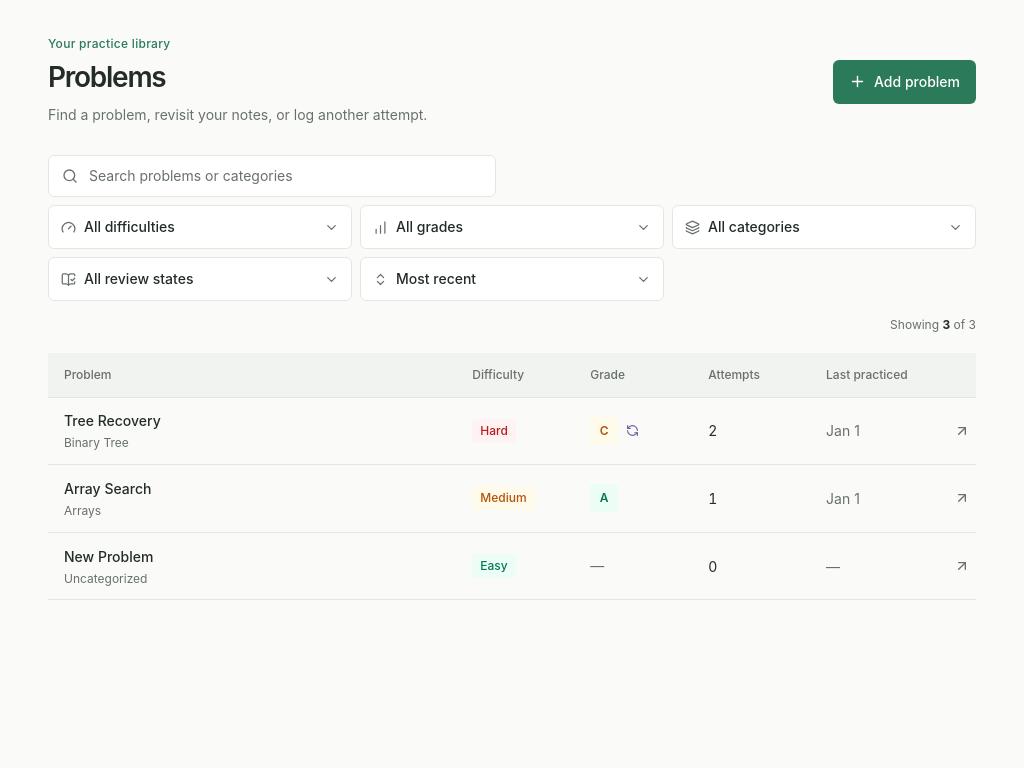
Test: ProblemsView filters › searches category options before filtering the list
Click the button "All categories": (754, 226) [672, 205, 976, 249]
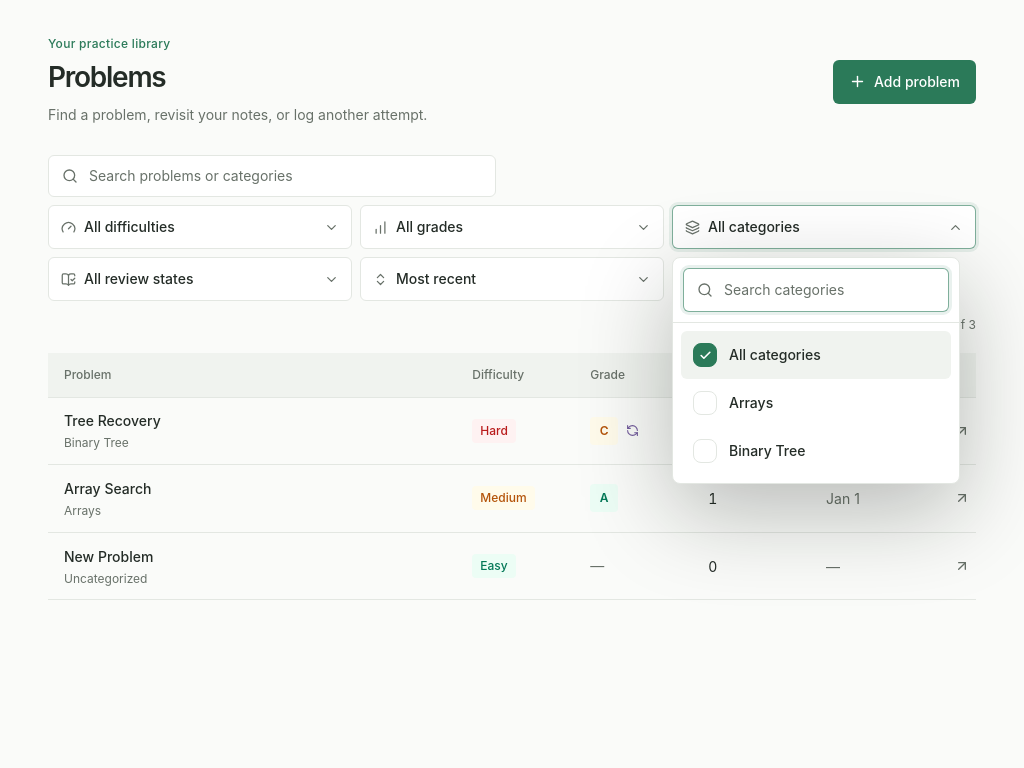
In the dropdown named "Search category options": (816, 290) [683, 268, 949, 312], type "binary tree"
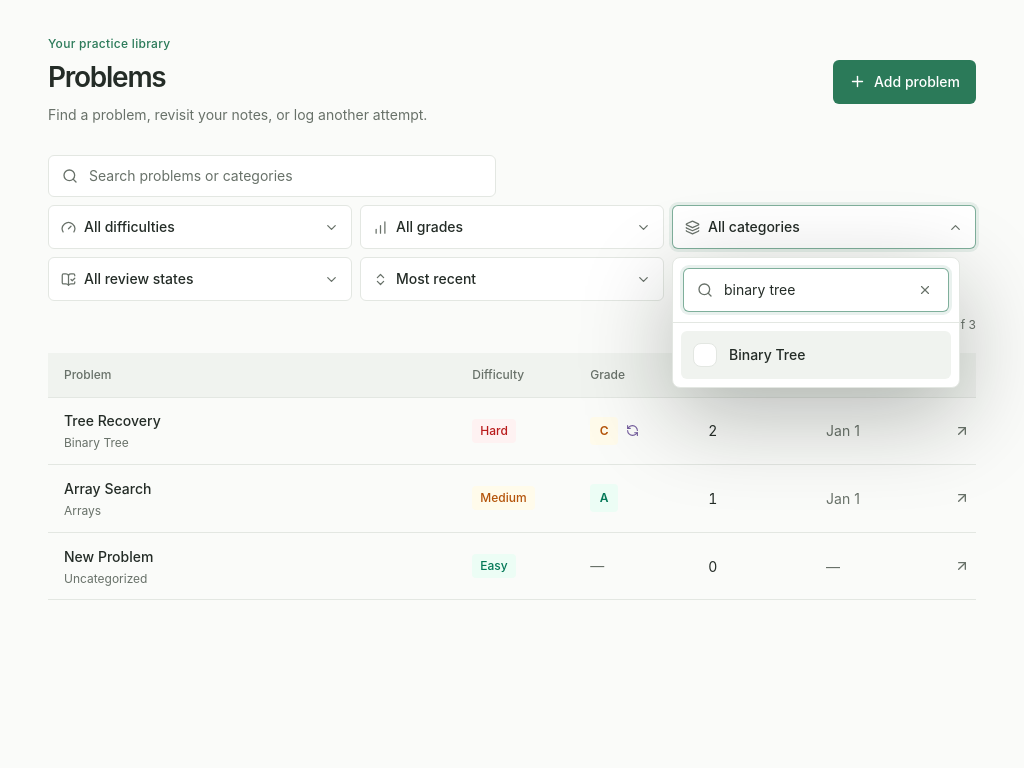
Click the option "Binary Tree": (767, 354) [681, 331, 951, 379]
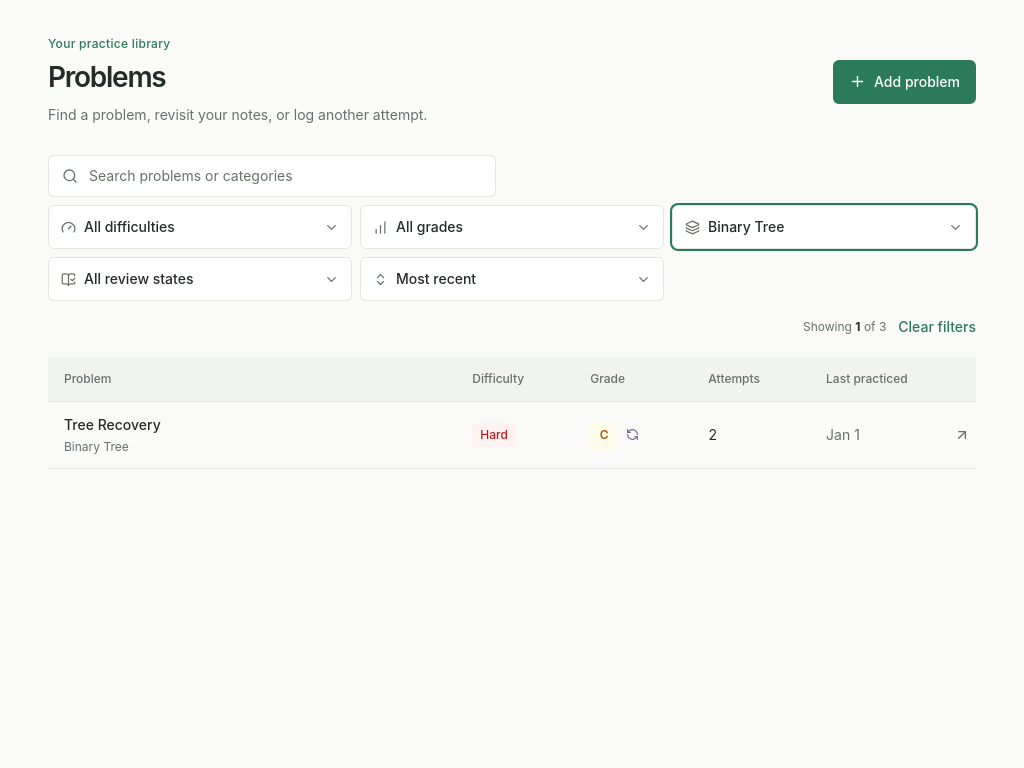
Expected: the button "Tree Recovery" is shown, [64, 414, 161, 435]
Now the button "Array Search" is gone
